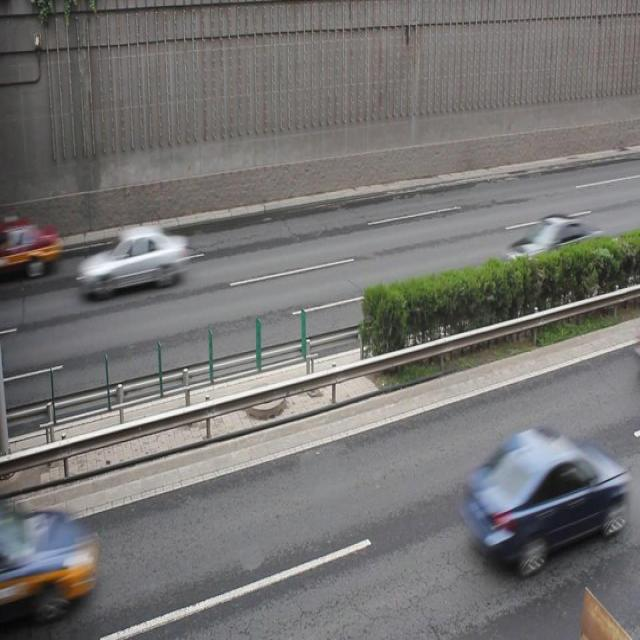car: (467, 426, 628, 567), (1, 502, 97, 614), (80, 223, 188, 296), (505, 215, 594, 279), (1, 210, 63, 276)
